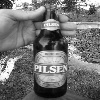beer: (33, 1, 68, 97)
